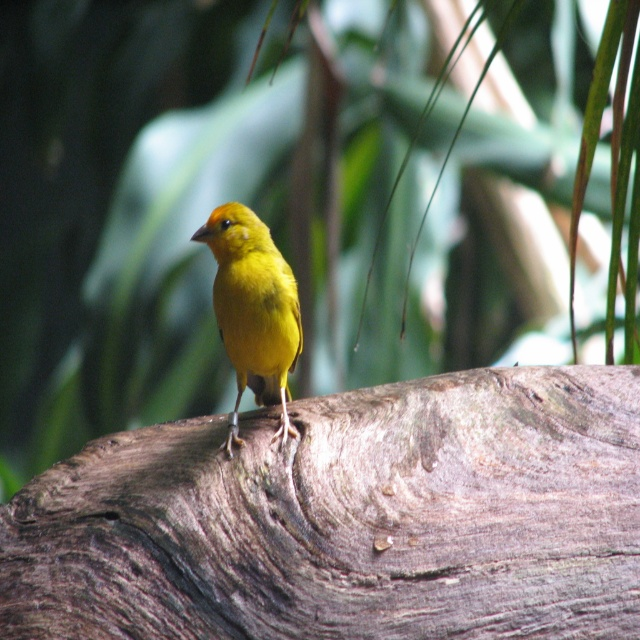Canary: (188, 203, 304, 458)
